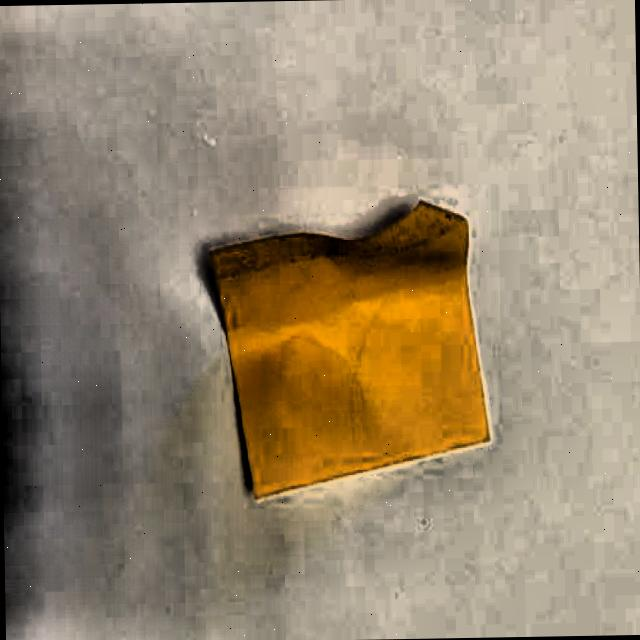paper: (212, 193, 483, 510)
